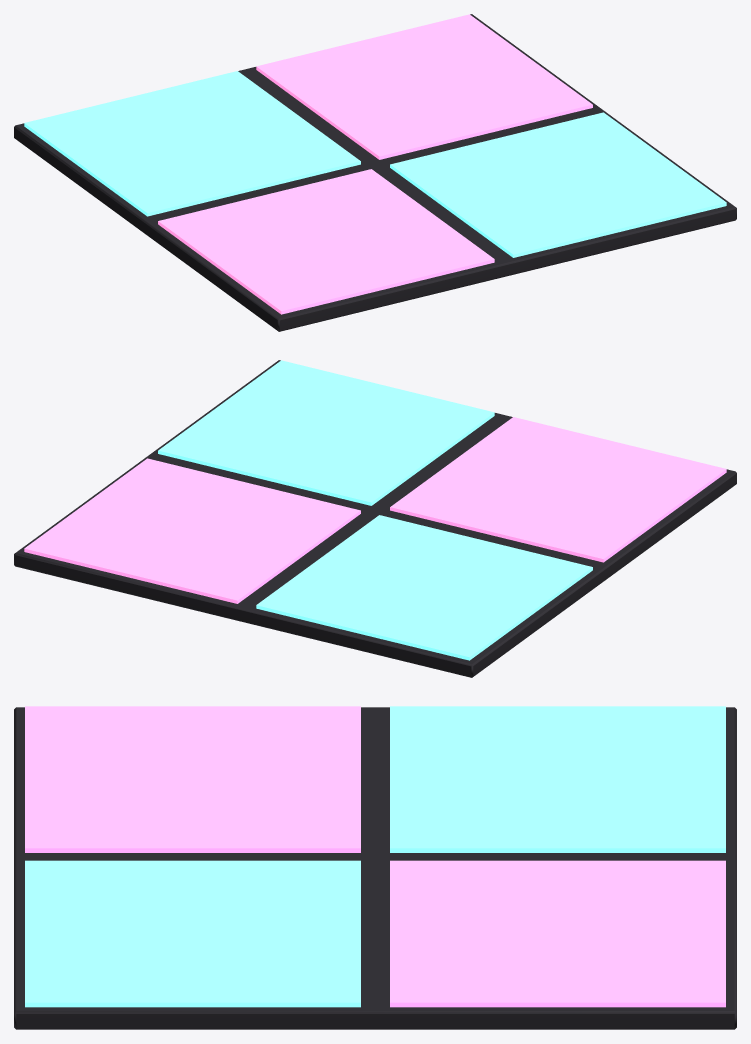
File: floor_dance_lit.glb
The picture shows the model from 3 angles, top to bottom: view 1: azimuth 30°, elevation 25°; view 2: azimuth 150°, elevation 25°; view 3: azimuth 270°, elevation 25°; orthographic projection. The views are drawn at different scales.
Visible parts, largest first — view 1: glow, floor_dance_lit; view 2: glow, floor_dance_lit; view 3: glow, floor_dance_lit.
Boxes of the visible parts, x1,y1,x2,y2 form: glow: [24, 14, 726, 314]; floor_dance_lit: [14, 14, 736, 331]; glow: [24, 360, 726, 660]; floor_dance_lit: [14, 360, 736, 677]; glow: [25, 706, 725, 1007]; floor_dance_lit: [14, 707, 736, 1029].
Size of the model in its own units: 0.99 by 0.035 by 0.99.
